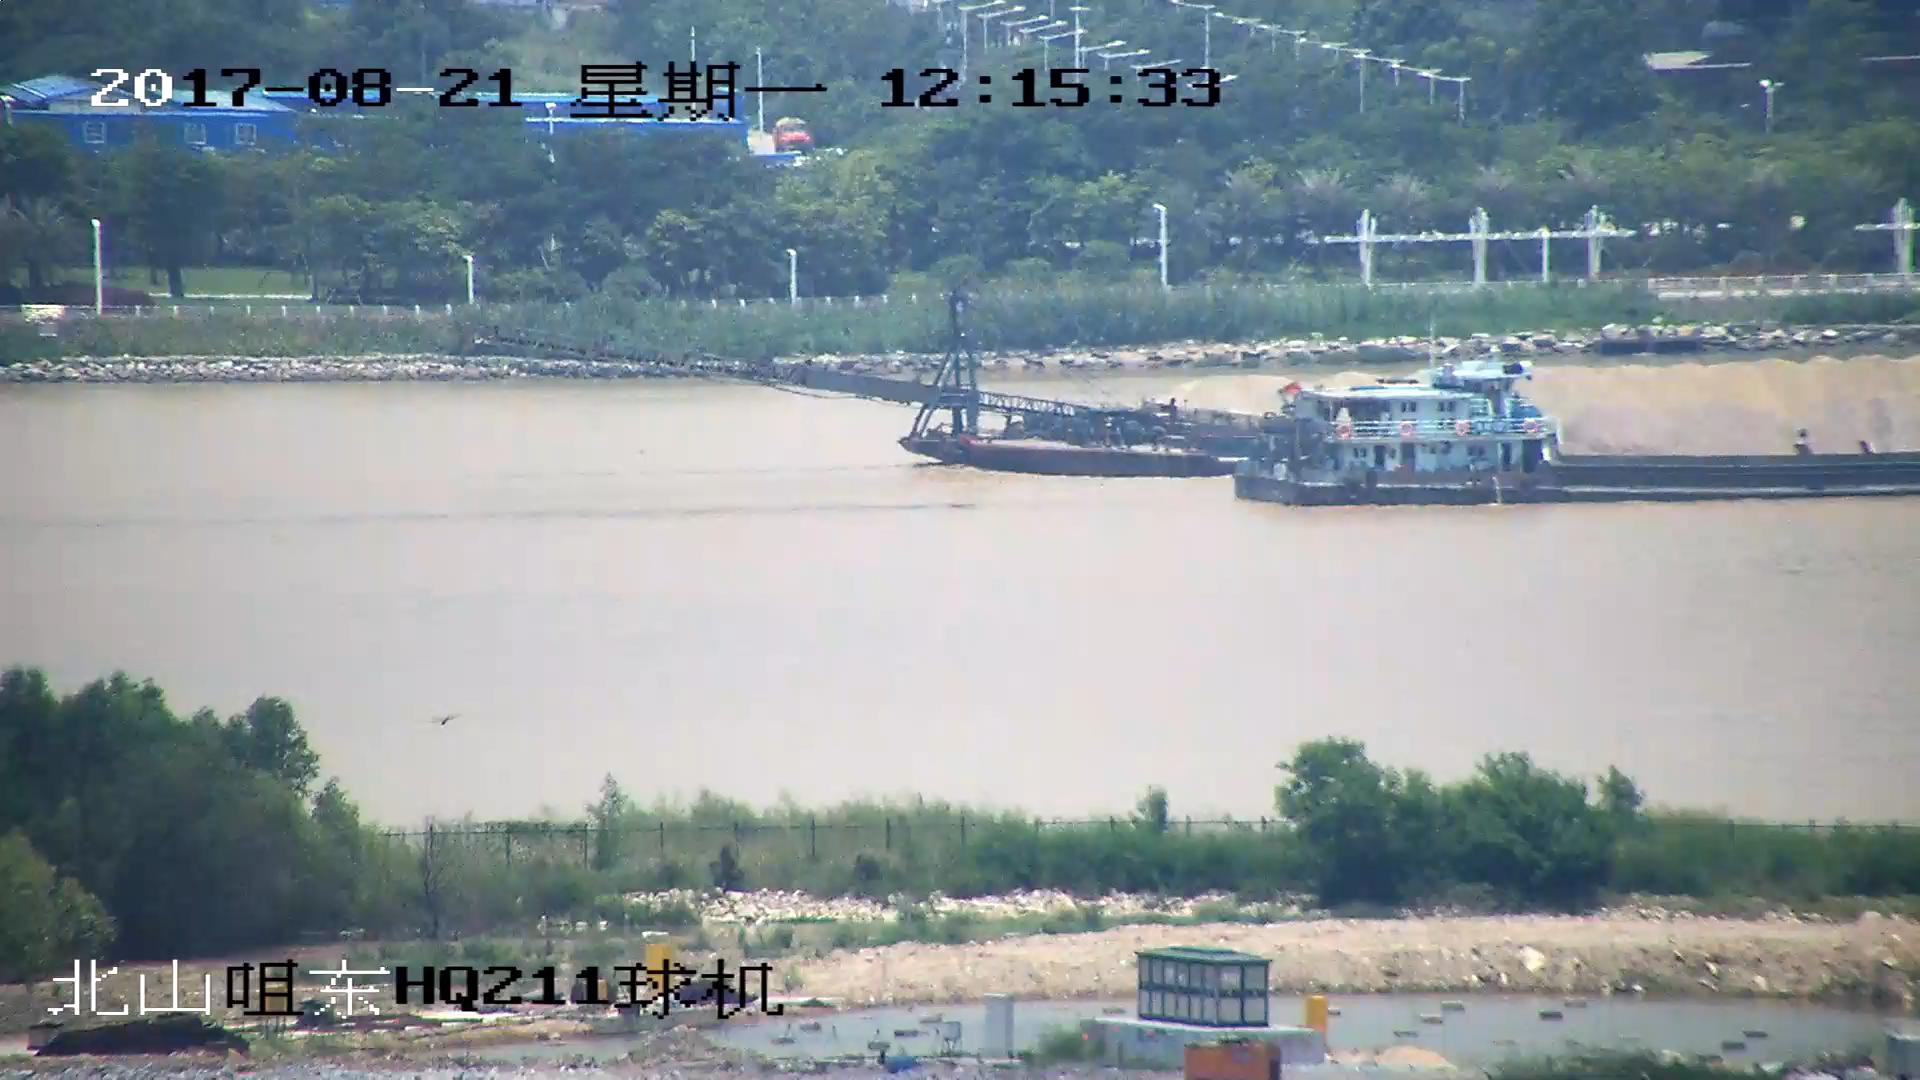ore carrier: (478, 331, 1919, 482), (1244, 386, 1920, 501)
